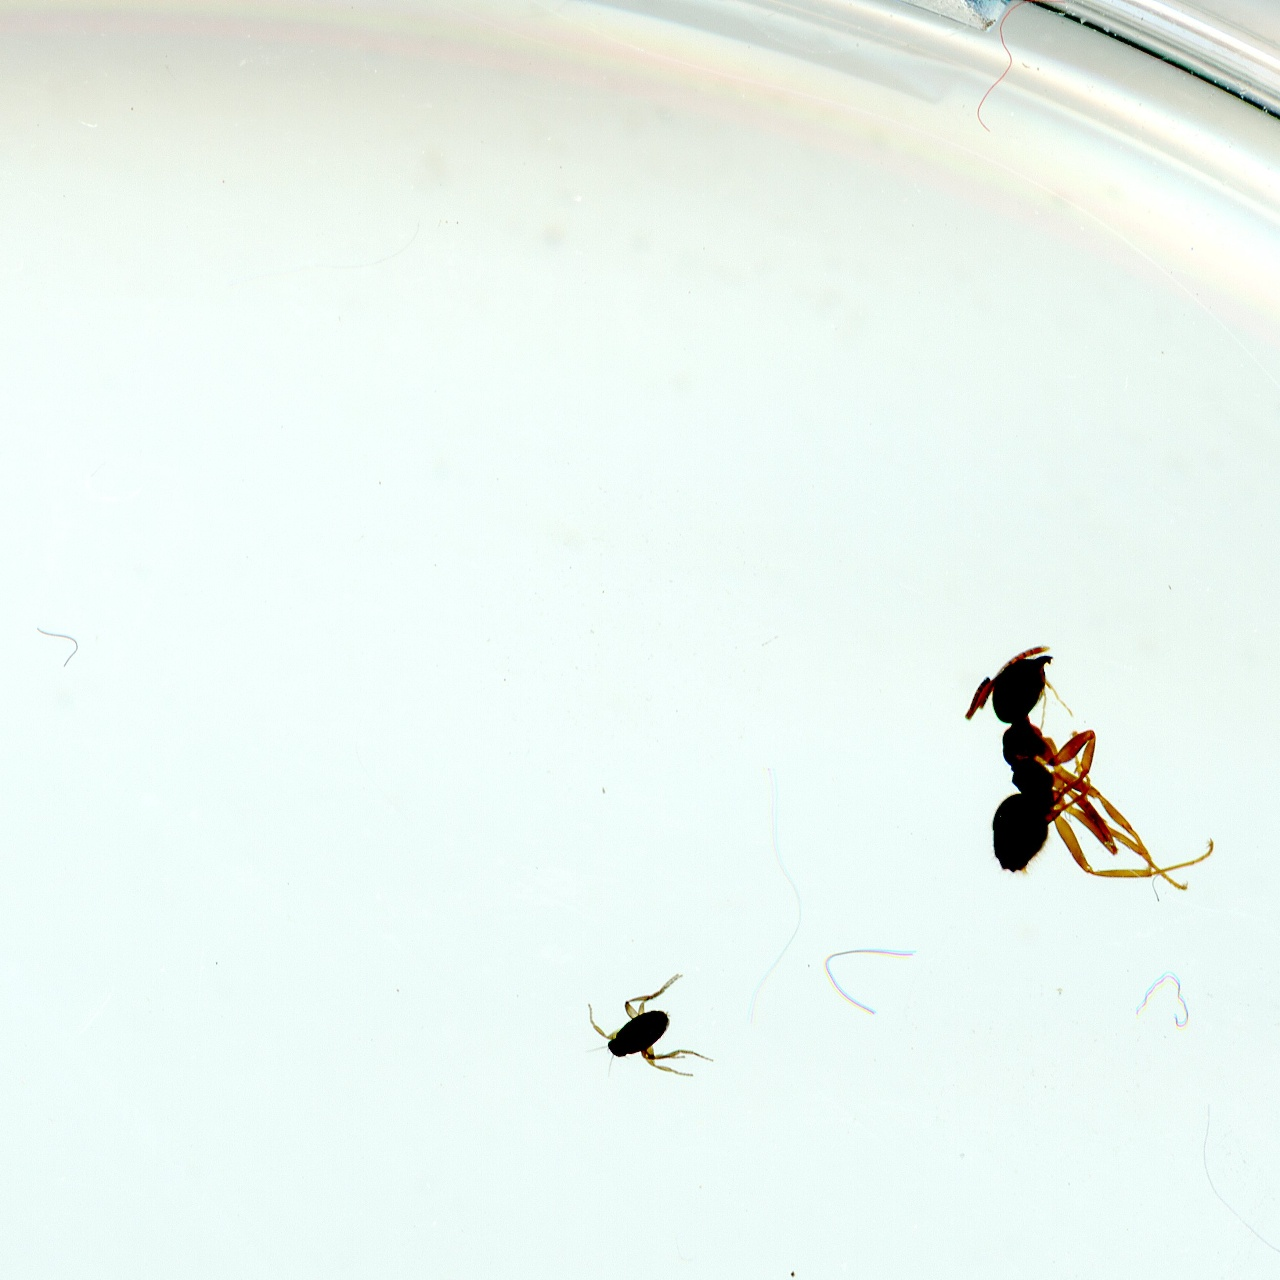arthropod: (906, 600, 1237, 971), (557, 955, 728, 1118)
